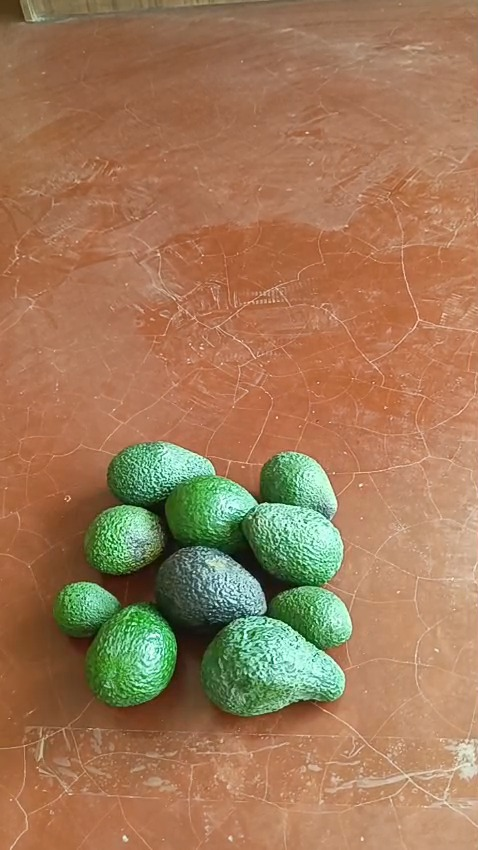Primera: (202, 617, 347, 715), (82, 599, 178, 706), (154, 543, 265, 630), (242, 502, 343, 585), (106, 439, 213, 508), (165, 476, 258, 554)
Segunda: (83, 504, 166, 576), (258, 451, 337, 519)
Tercera: (267, 584, 352, 650), (52, 580, 119, 638)
